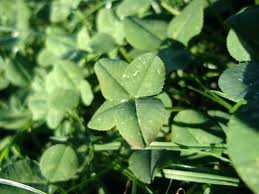4-clover: (90, 57, 166, 140)
